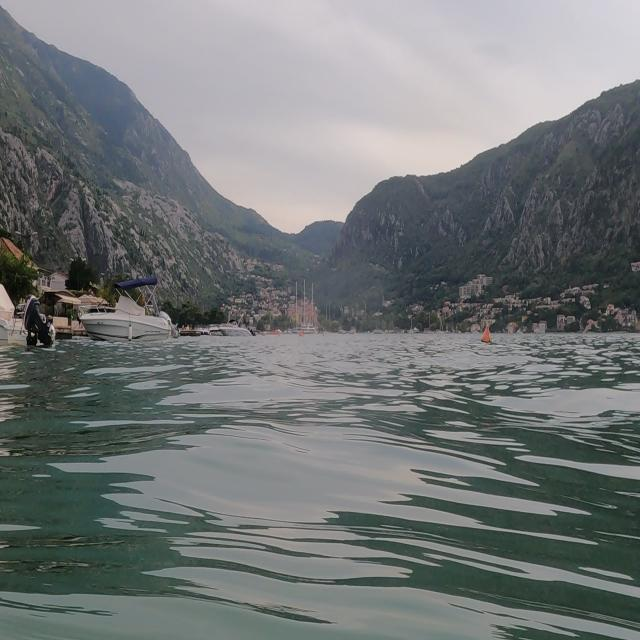boat: (77, 273, 178, 345), (291, 274, 323, 339), (214, 309, 257, 344)
buoy: (473, 314, 498, 356)
